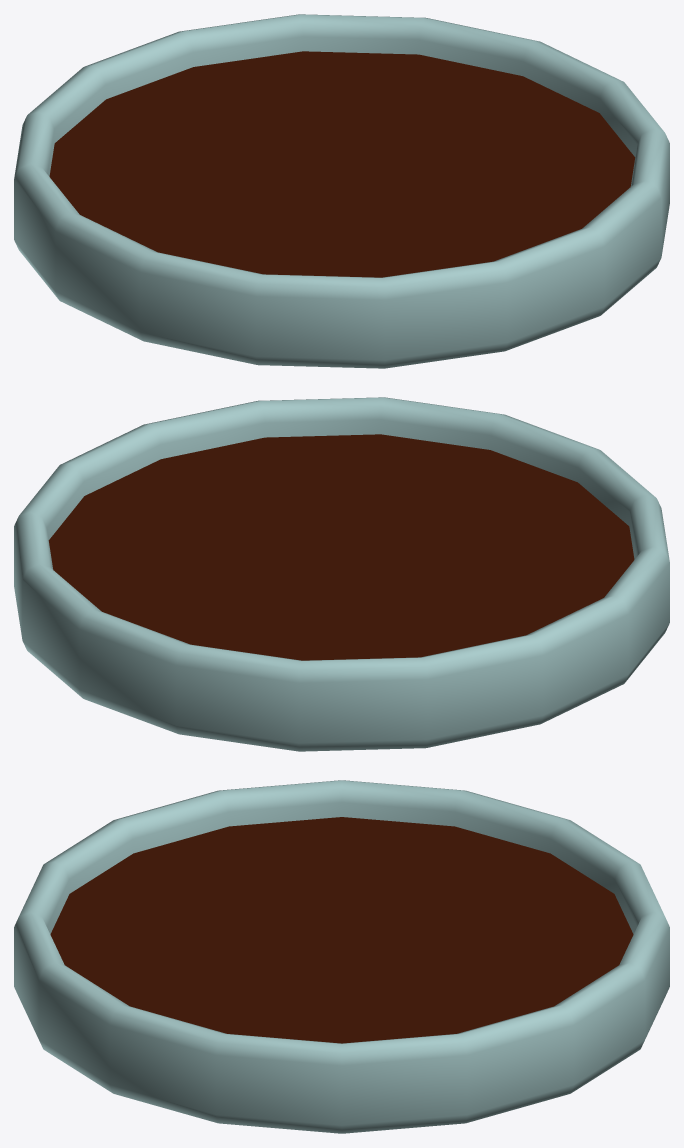
File: LastLuna_Model_Station_Farm.fbx
3 views of the same model, one above another, from view 1: azimuth 30°, elevation 25°; view 2: azimuth 150°, elevation 25°; view 3: azimuth 270°, elevation 25° (orthographic).
Parts seen in each view (by area): view 1: Petri_Dish_Medium001, Petri_Dish001; view 2: Petri_Dish_Medium001, Petri_Dish001; view 3: Petri_Dish_Medium001, Petri_Dish001.
Boxes of the visible parts, box(x1,y1,x2,y2) form: Petri_Dish_Medium001: box(49, 51, 635, 277); Petri_Dish001: box(14, 14, 669, 368); Petri_Dish_Medium001: box(48, 434, 634, 660); Petri_Dish001: box(14, 397, 669, 751); Petri_Dish_Medium001: box(50, 817, 633, 1043); Petri_Dish001: box(14, 780, 669, 1133).
Size of the model in its own units: 39.37 by 5.91 by 39.37.
